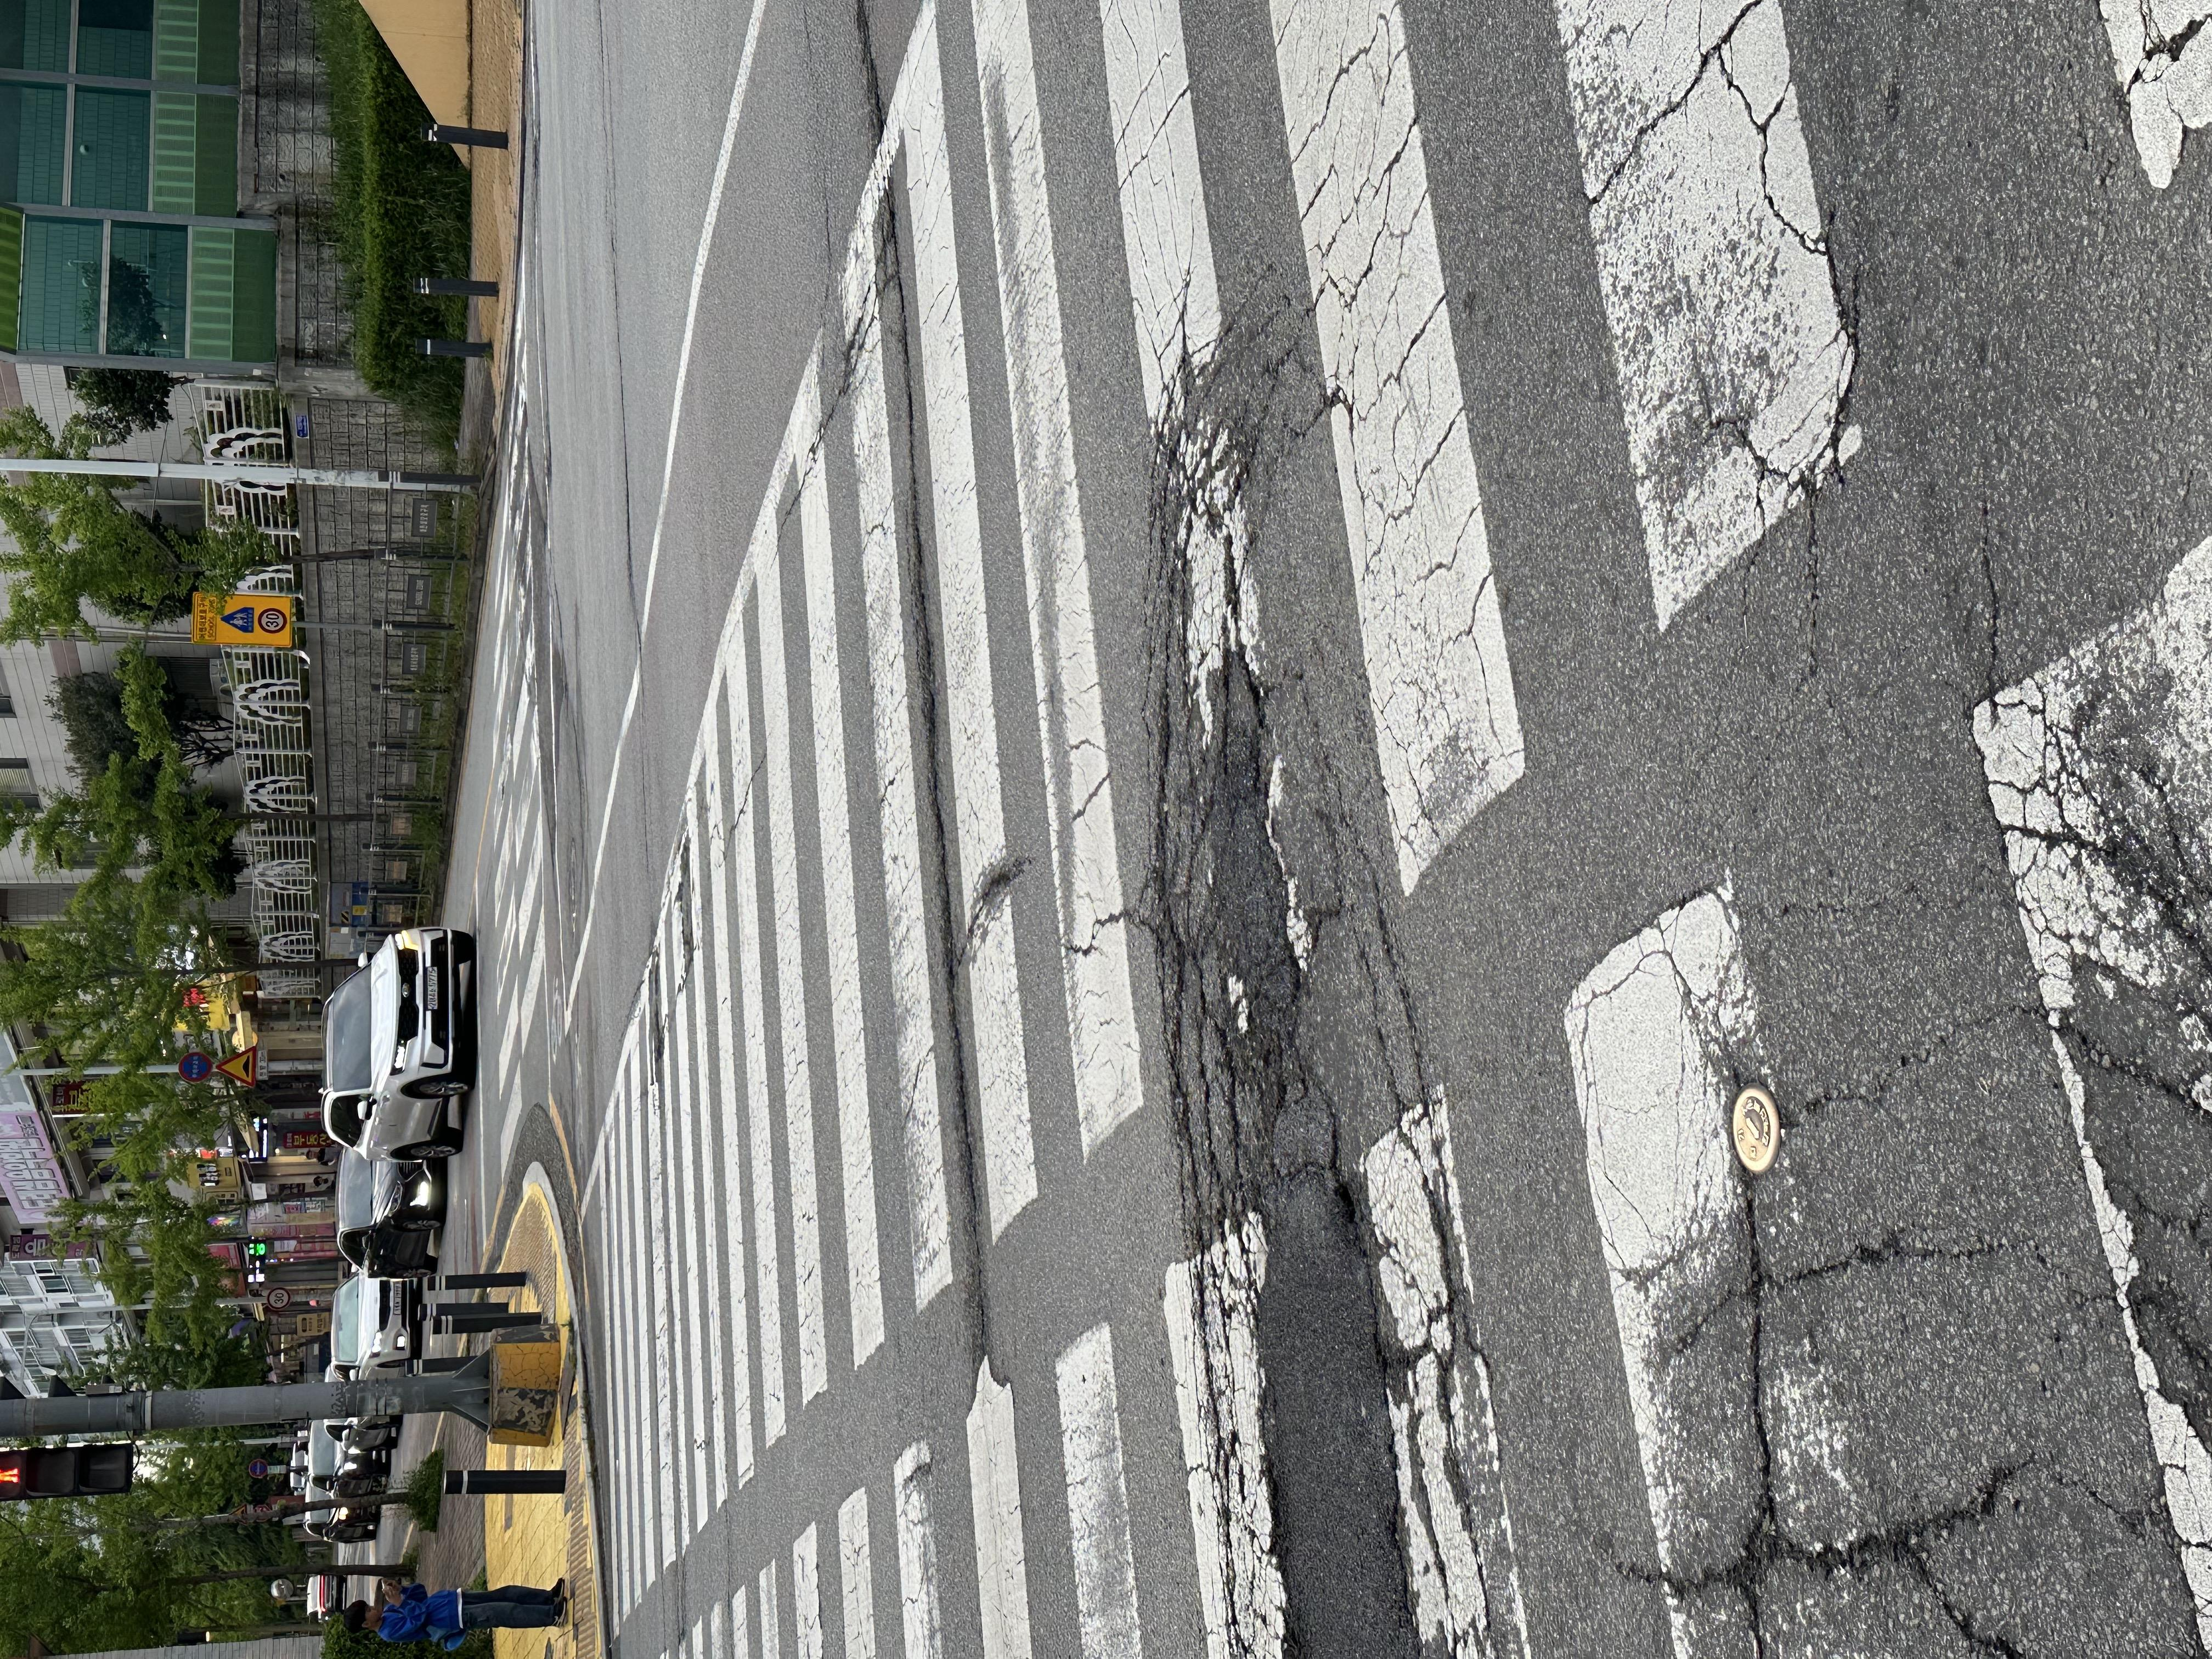pothole: (469, 856, 1677, 1021)
